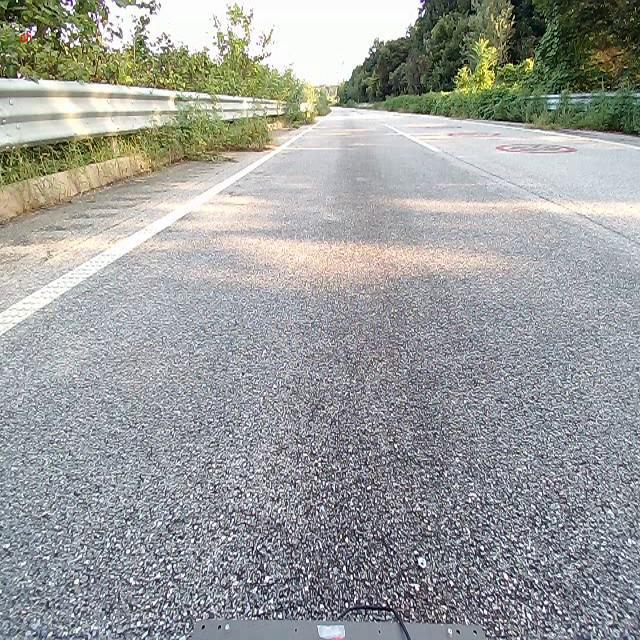Lane: (0, 117, 318, 335), (0, 128, 311, 336), (373, 108, 640, 262), (383, 123, 639, 246)
